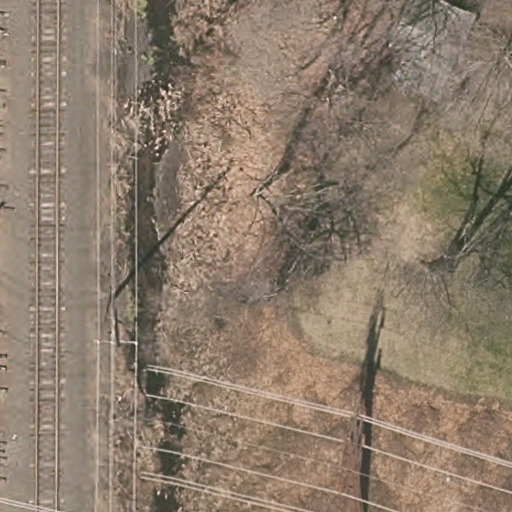DT: (94, 330, 140, 350)
